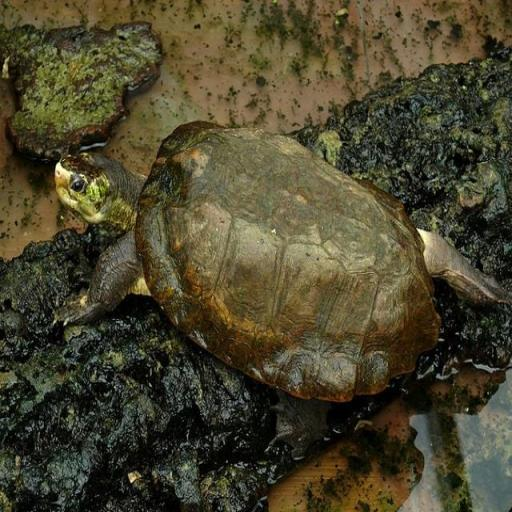turtle: (40, 116, 444, 404)
